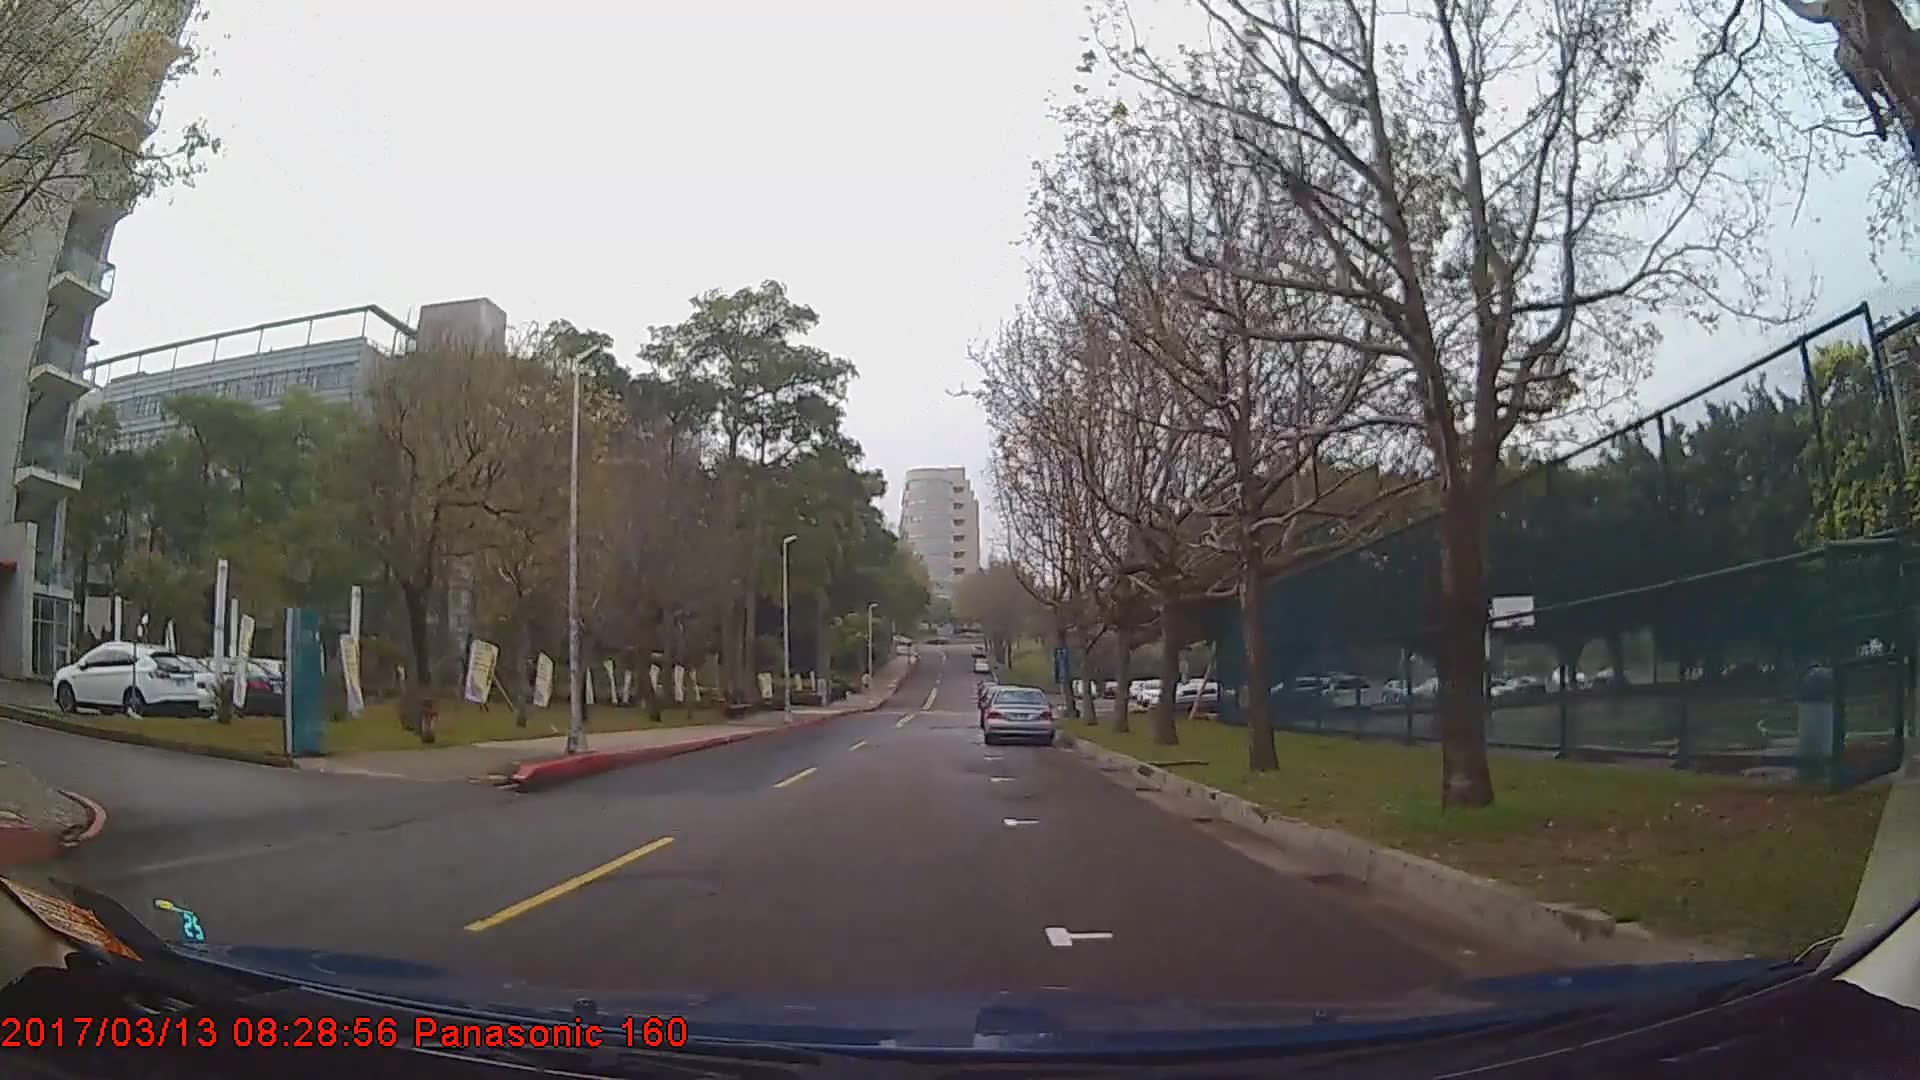vehicle: (51, 640, 198, 717), (103, 650, 229, 711), (982, 686, 1054, 746)
